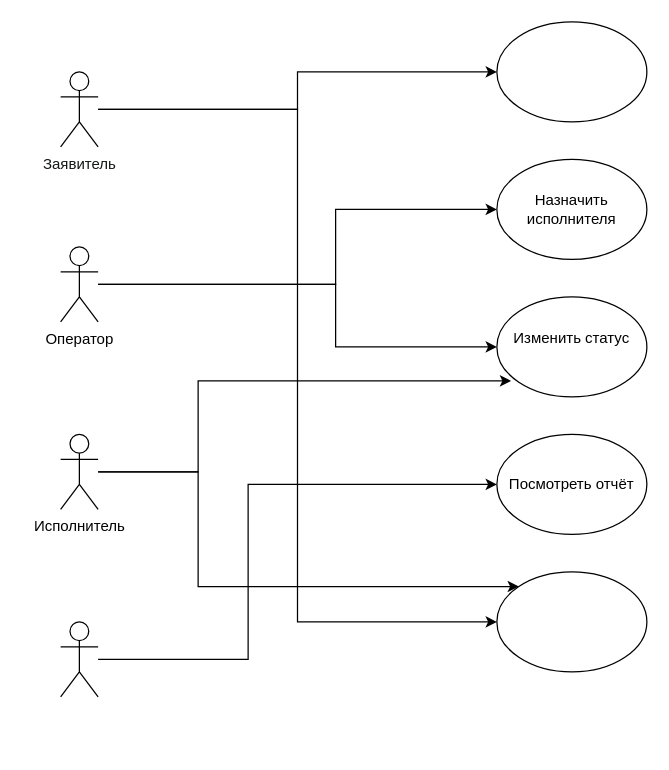
The diagram is 669 pixels wide and 770 high, and some of its shapes have lost their labels. The box of each missing label's shape, as (x1, y1, x2, y2) in pixels:
Администратор: (59, 621, 98, 697)
Добавить комментарий: (496, 571, 647, 672)
Создать заявку: (496, 21, 647, 122)
